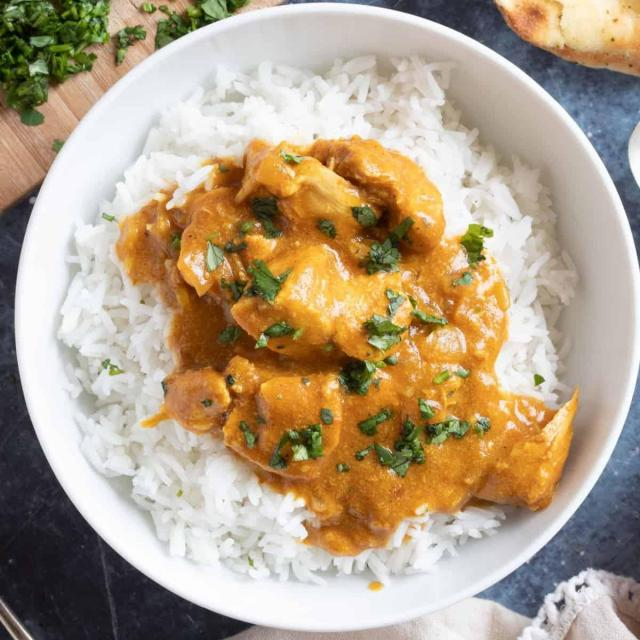chicken: (212, 170, 514, 506)
rice: (44, 211, 194, 551), (162, 47, 510, 160)
